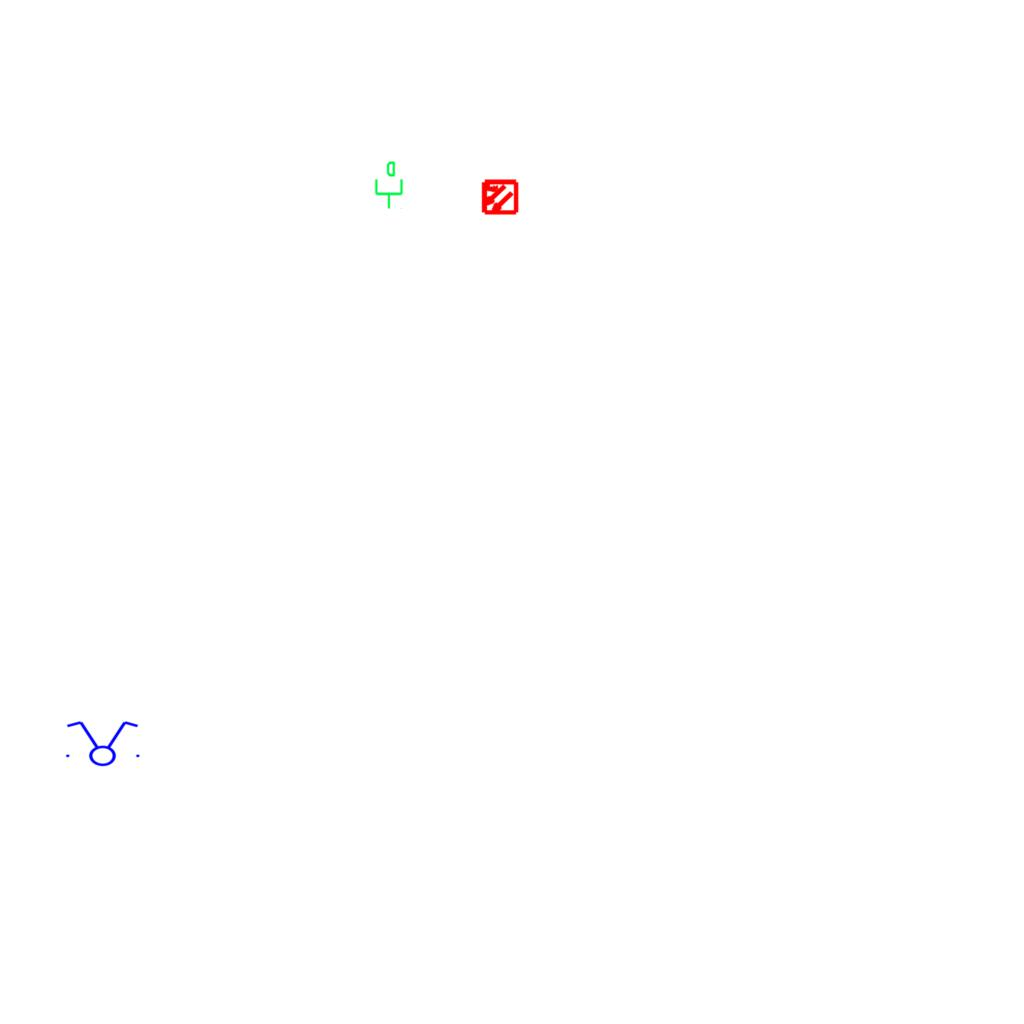Datenanschluss_einfach: (371, 160, 405, 210)
OT_Multisensormelder_(Kombination_RMO_WMD): (471, 169, 527, 225)
Serienschalter: (60, 719, 144, 767)
